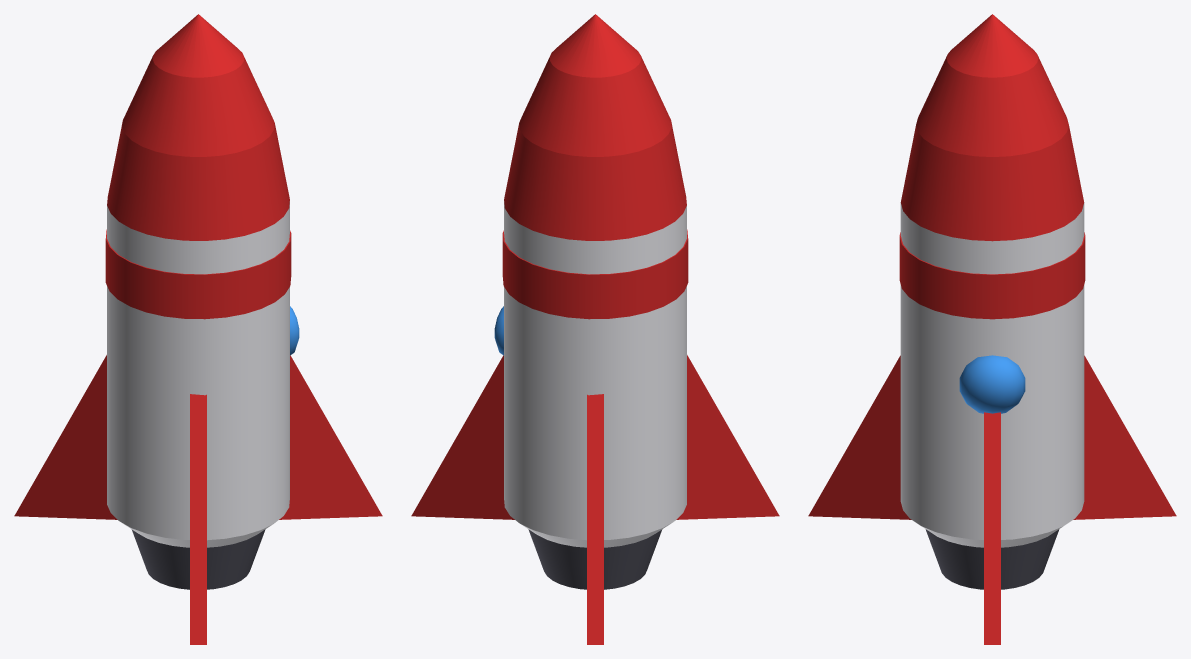
Rendered from rocket.obj.
3 views of the same model, side by side, from view 1: azimuth 30°, elevation 25°; view 2: azimuth 150°, elevation 25°; view 3: azimuth 270°, elevation 25° (orthographic).
Bounding box in the file's own units: 0.5221 × 1 × 0.6029.
